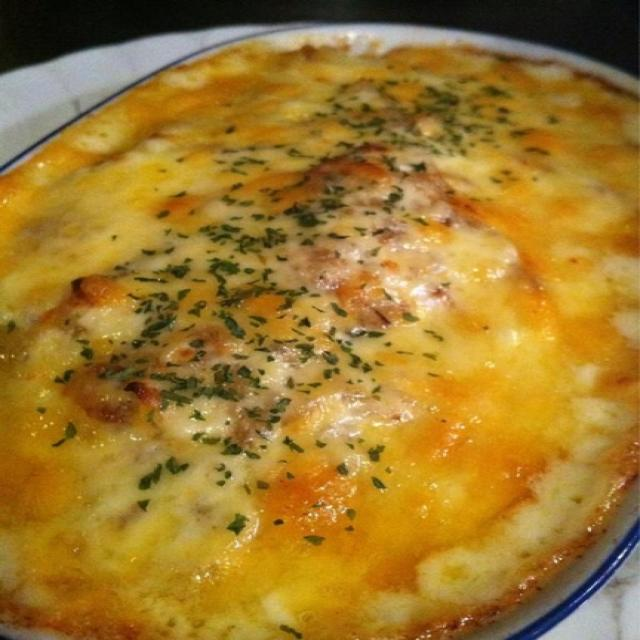米饭主食: (7, 34, 627, 626)
